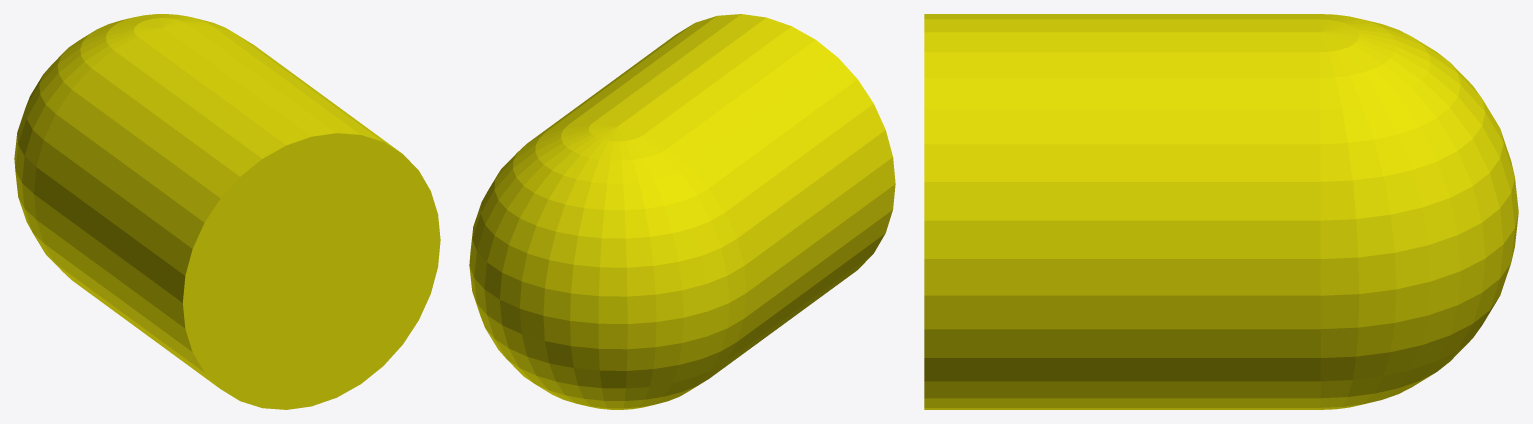
Rendered from lazer tip.glb.
The picture shows the model from 3 angles, left to right: view 1: azimuth 30°, elevation 25°; view 2: azimuth 150°, elevation 25°; view 3: azimuth 270°, elevation 25°; orthographic projection. The views are drawn at different scales.
Visible parts, largest first — view 1: Cylinder, Sphere; view 2: Sphere, Cylinder; view 3: Cylinder, Sphere.
Part boxes in pixels (left/top/right/bottom): Cylinder: left=34, top=24, right=440, bottom=409; Sphere: left=14, top=14, right=233, bottom=277; Sphere: left=469, top=123, right=746, bottom=409; Cylinder: left=528, top=14, right=895, bottom=377; Cylinder: left=924, top=14, right=1320, bottom=409; Sphere: left=1320, top=14, right=1518, bottom=409.
Size of the model in its own units: 2 by 2 by 3.
